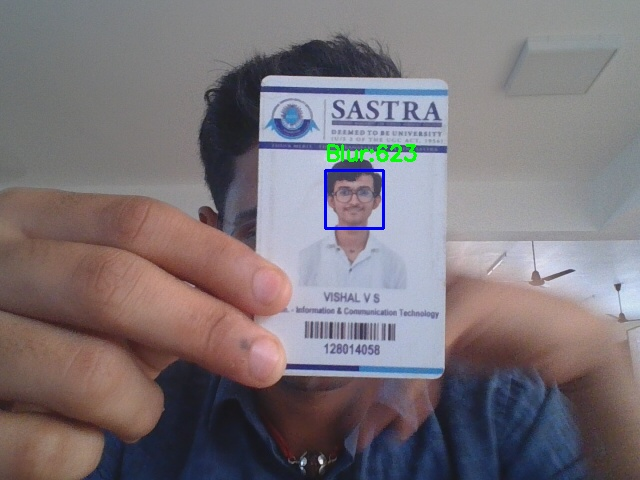fake: (325, 170, 383, 228)
